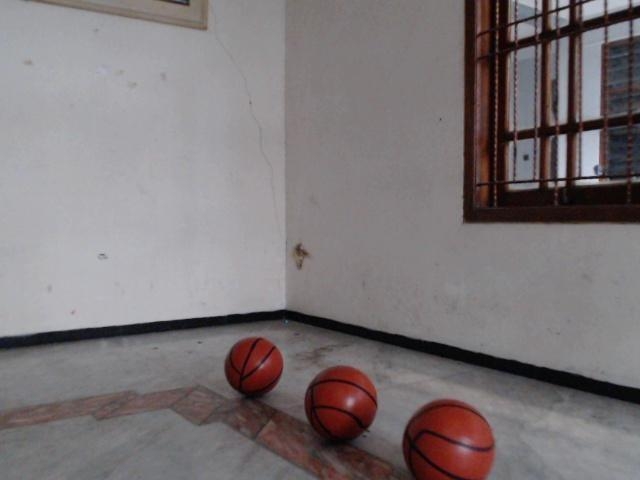Sports-Ball: (402, 400, 494, 480), (307, 365, 379, 443), (220, 338, 288, 404)
